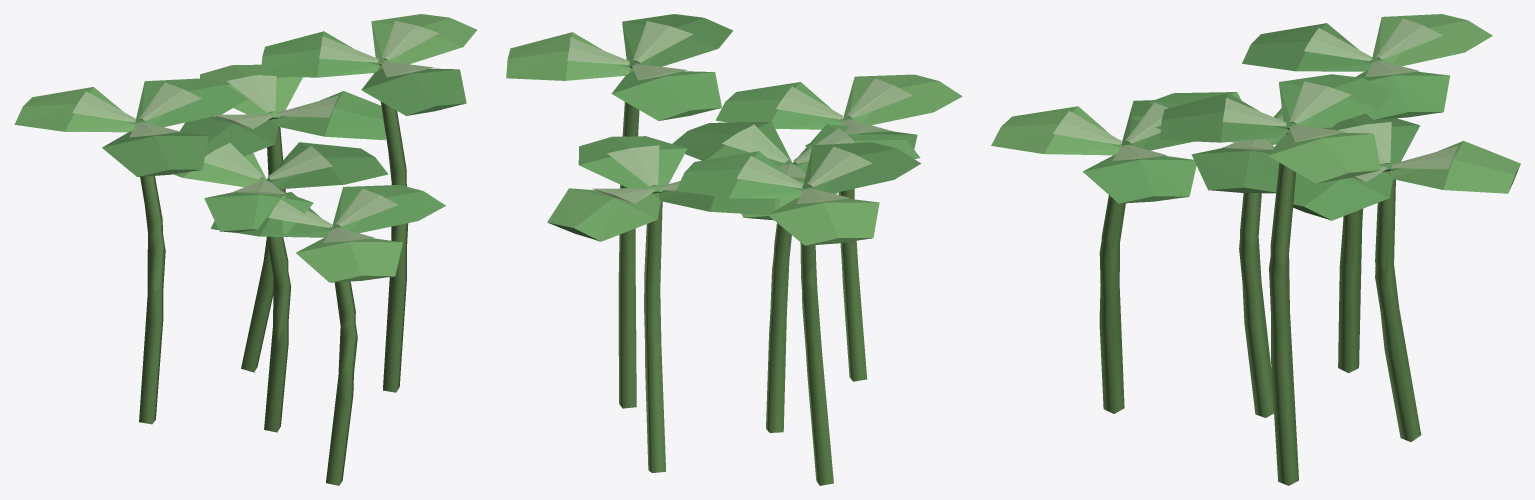
File: clover_b.glb
3 views of the same model, side by side, from view 1: azimuth 30°, elevation 25°; view 2: azimuth 150°, elevation 25°; view 3: azimuth 270°, elevation 25° (orthographic). The views are drawn at different scales.
Parts seen in each view (by area): view 1: body_nl, stem, body__far; view 2: body_nl, body__far, stem; view 3: body_nl, stem, body__far.
Part boxes in pixels (bbox=[...]): body_nl: bbox=[14, 14, 477, 282]; stem: bbox=[139, 101, 406, 485]; body__far: bbox=[139, 66, 464, 475]; body_nl: bbox=[506, 14, 962, 245]; body__far: bbox=[597, 67, 871, 485]; stem: bbox=[618, 102, 857, 485]; body_nl: bbox=[991, 14, 1520, 220]; stem: bbox=[1099, 133, 1410, 485]; body__far: bbox=[1099, 112, 1515, 476].
Bounding box in the file's own units: 5.25 × 4.26 × 5.54.
